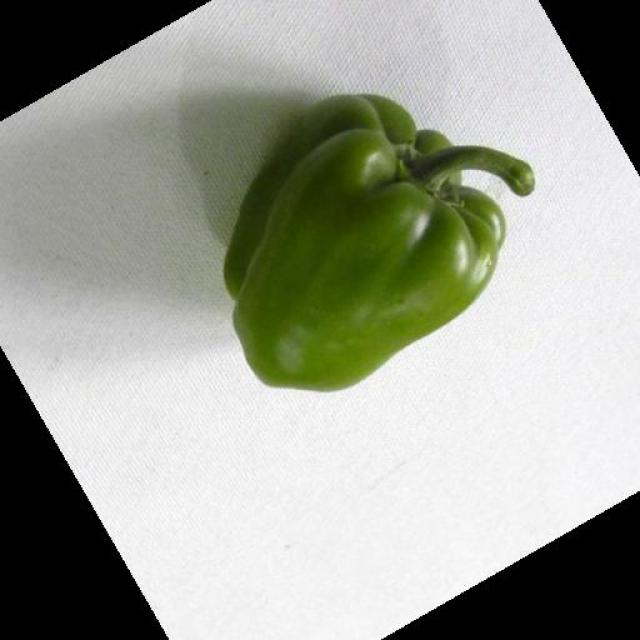Fresh_Capsicum: (229, 75, 512, 393)
